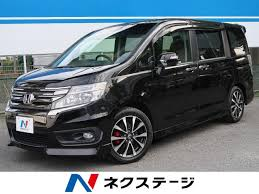van: (4, 18, 255, 163)
